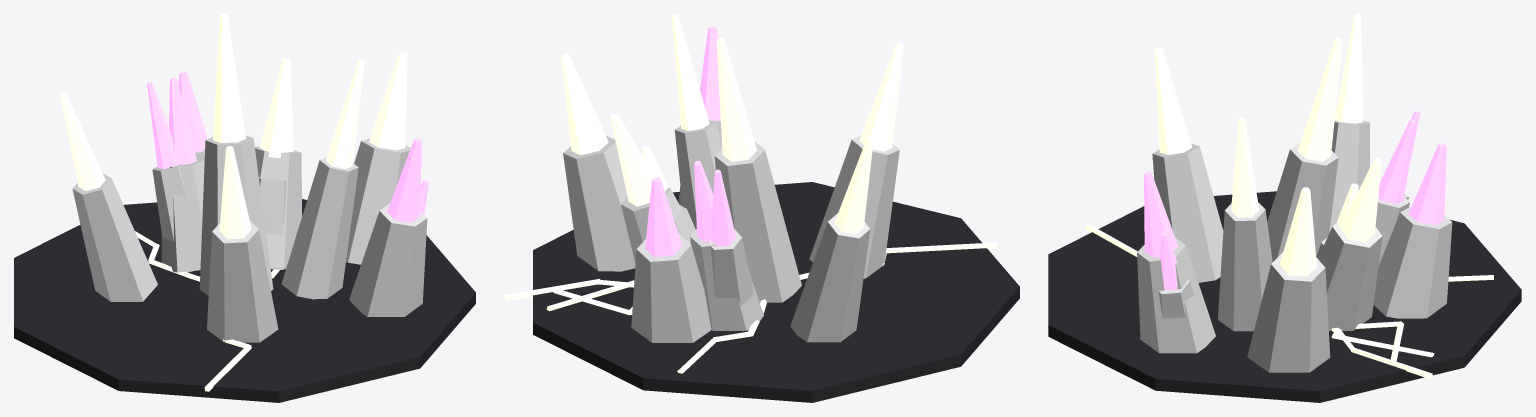
File: Ore_DataCrystal.fbx
The picture shows the model from 3 angles, left to right: view 1: azimuth 30°, elevation 25°; view 2: azimuth 150°, elevation 25°; view 3: azimuth 270°, elevation 25°; orthographic projection. The views are drawn at different scales.
Visible parts, largest first — view 1: Ore_Base, Ore_Full_Shard6_Core, Ore_Full_Shard5_Core, Ore_Full_Shard7_Core, Ore_Full_Shard4_Core, Ore_Full_Shard1_Core, Ore_Full_Shard2_Core, Ore_Full_Shard0_Core, Ore_Full_Shard3_Core, Ore_Full_Shard1, Ore_Full_Shard2, Ore_Full_Shard6 (+12 smaller); view 2: Ore_Base, Ore_Full_Shard1_Core, Ore_Full_Shard2_Core, Ore_Full_Shard7_Core, Ore_Full_Shard8_Core, Ore_Full_Shard5_Core, Ore_Full_Shard1, Ore_Full_Shard0_Core, Ore_Full_Shard6_Core, Ore_Full_Shard2, Ore_Full_Shard5, Ore_Full_Shard6 (+13 smaller); view 3: Ore_Base, Ore_Full_Shard2_Core, Ore_Full_Shard8_Core, Ore_Full_Shard5_Core, Ore_Full_Shard6_Core, Ore_Full_Shard4_Core, Ore_Full_Shard3_Core, Ore_Full_Shard1_Core, Ore_Full_Shard1, Ore_Full_Shard7_Core, Ore_Full_Shard5, Ore_Full_Shard2 (+12 smaller).
Part boxes in pixels (box(x1,y1,x2,y2)): Ore_Base: box(14, 199, 475, 402); Ore_Full_Shard6_Core: box(281, 157, 358, 299); Ore_Full_Shard5_Core: box(207, 220, 278, 342); Ore_Full_Shard7_Core: box(72, 173, 157, 301); Ore_Full_Shard4_Core: box(349, 203, 427, 316); Ore_Full_Shard1_Core: box(199, 135, 273, 295); Ore_Full_Shard2_Core: box(346, 138, 410, 264); Ore_Full_Shard0_Core: box(161, 159, 204, 272); Ore_Full_Shard3_Core: box(255, 146, 302, 267); Ore_Full_Shard1: box(213, 14, 245, 143); Ore_Full_Shard2: box(369, 52, 407, 150); Ore_Full_Shard6: box(326, 59, 364, 168); Ore_Base: box(533, 182, 1019, 402); Ore_Full_Shard1_Core: box(714, 141, 801, 302); Ore_Full_Shard2_Core: box(563, 135, 635, 271); Ore_Full_Shard7_Core: box(790, 213, 870, 342); Ore_Full_Shard8_Core: box(631, 234, 711, 342); Ore_Full_Shard5_Core: box(809, 135, 899, 278); Ore_Full_Shard1: box(716, 38, 756, 161); Ore_Full_Shard0_Core: box(690, 229, 763, 330); Ore_Full_Shard6_Core: box(674, 120, 722, 229); Ore_Full_Shard2: box(561, 54, 608, 154); Ore_Full_Shard5: box(859, 43, 903, 151); Ore_Full_Shard6: box(671, 14, 709, 131); Ore_Base: box(1048, 191, 1521, 402); Ore_Full_Shard2_Core: box(1247, 252, 1330, 372); Ore_Full_Shard8_Core: box(1373, 206, 1452, 318); Ore_Full_Shard5_Core: box(1152, 143, 1223, 282); Ore_Full_Shard6_Core: box(1218, 202, 1272, 331); Ore_Full_Shard4_Core: box(1137, 238, 1215, 353); Ore_Full_Shard3_Core: box(1318, 223, 1382, 330); Ore_Full_Shard1_Core: box(1267, 143, 1338, 261); Ore_Full_Shard1: box(1297, 37, 1342, 161); Ore_Full_Shard7_Core: box(1329, 120, 1369, 232); Ore_Full_Shard5: box(1154, 47, 1192, 154); Ore_Full_Shard2: box(1279, 187, 1316, 276).
Size of the model in its own units: 0.8863 by 0.5538 by 0.8729.
